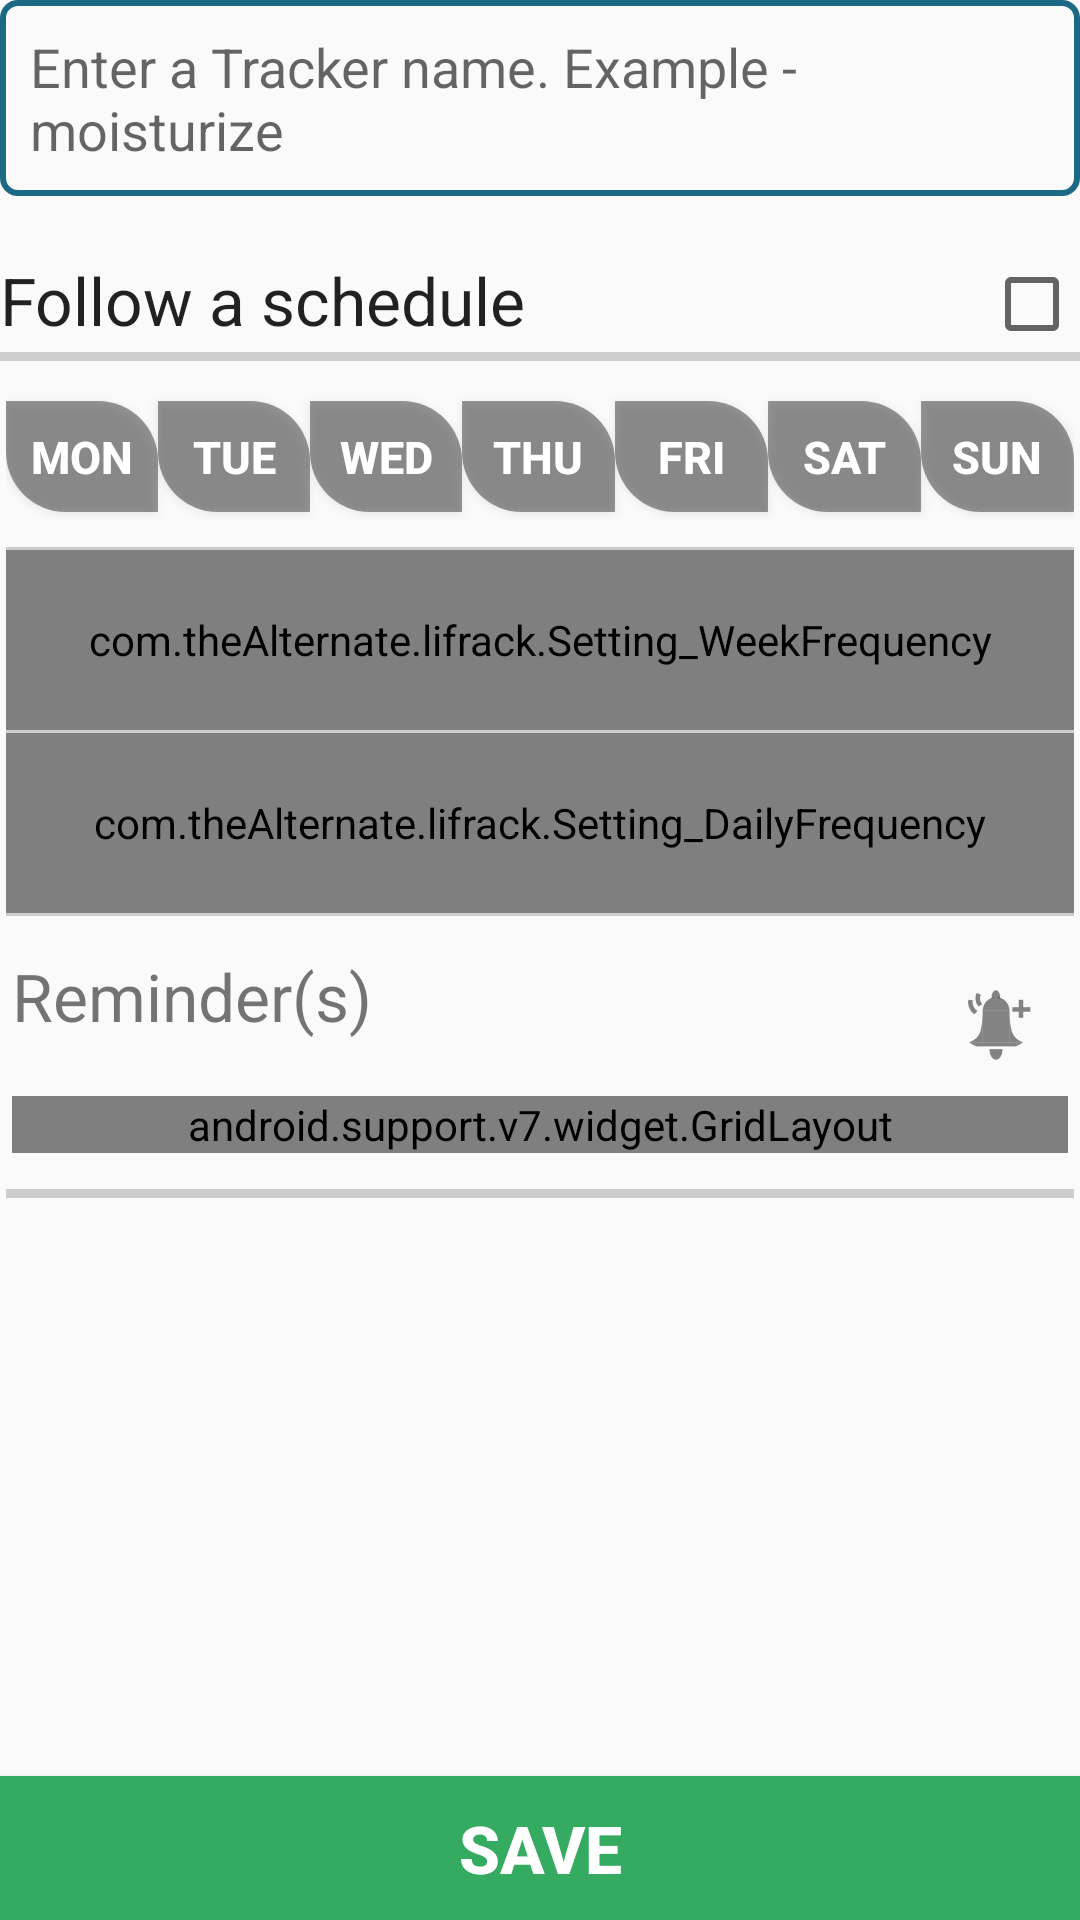

Locate icon controls on the screen. Image size 1080px x 1920px, boxes as (x1, y1, x2, y2).
add reminder: (968, 990, 1031, 1060)
